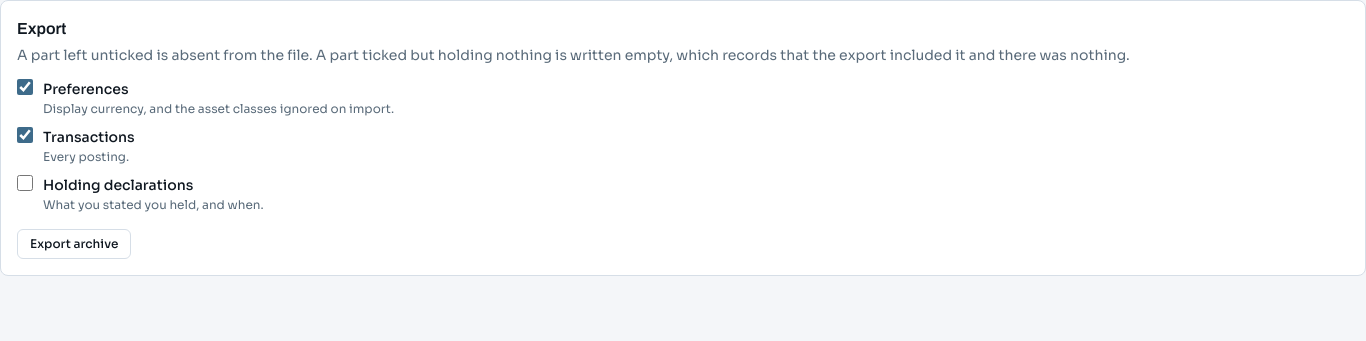
it: ExportArchivePanel › says so when the export fails, and stays usable
The image size is (1366, 341).
Click the button with test id "export-archive": [74, 244] box [17,229,131,259]
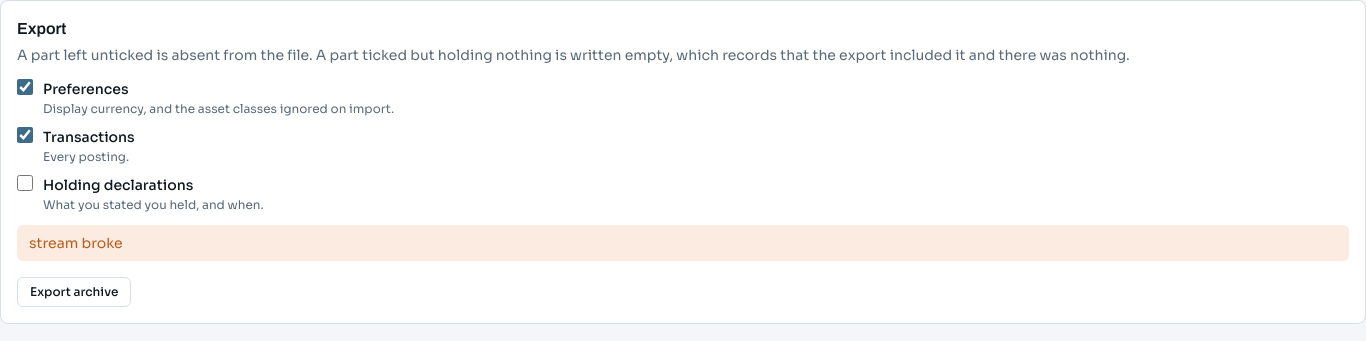
Expected: the button with test id "export-archive" is enabled, [17,277,131,307]
Expected: the text "stream broke" is shown, [17,225,1349,261]
